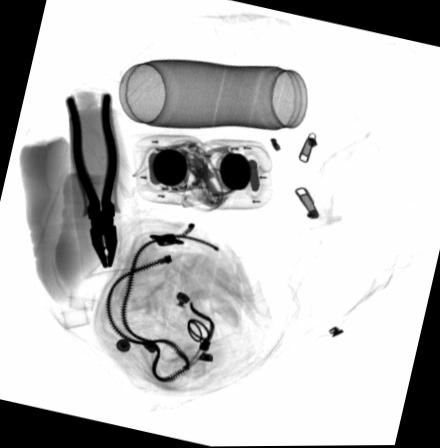Pliers: (63, 89, 121, 268)
